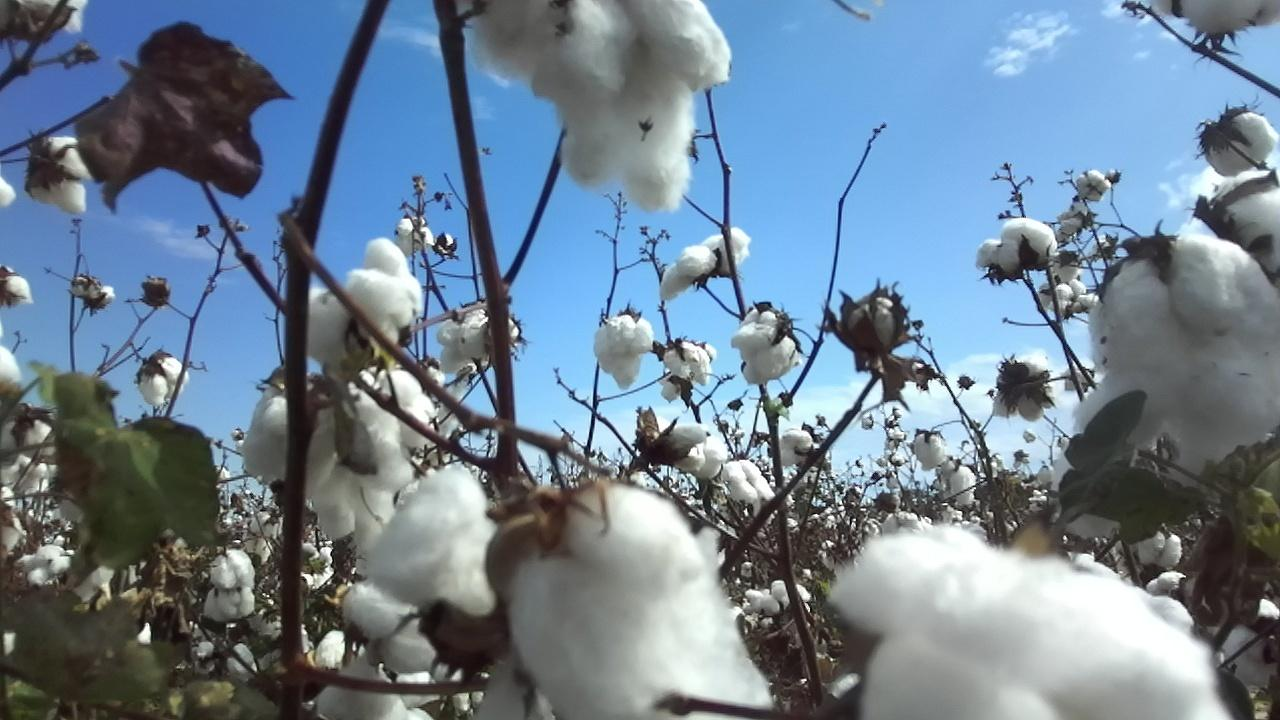cotton_ready: (829, 527, 1234, 720), (508, 482, 777, 720), (449, 0, 732, 214), (1077, 235, 1280, 469), (244, 364, 433, 539), (372, 464, 497, 621), (304, 232, 427, 371), (340, 582, 442, 675), (315, 660, 440, 720), (660, 225, 752, 302), (439, 304, 519, 375), (732, 306, 799, 385), (29, 134, 92, 217), (596, 315, 657, 390), (977, 217, 1060, 272), (1205, 113, 1276, 177), (1152, 0, 1280, 30), (992, 359, 1052, 422), (660, 337, 718, 402), (664, 424, 728, 478), (207, 554, 255, 624), (848, 295, 905, 352), (140, 354, 190, 406), (724, 459, 774, 505)
